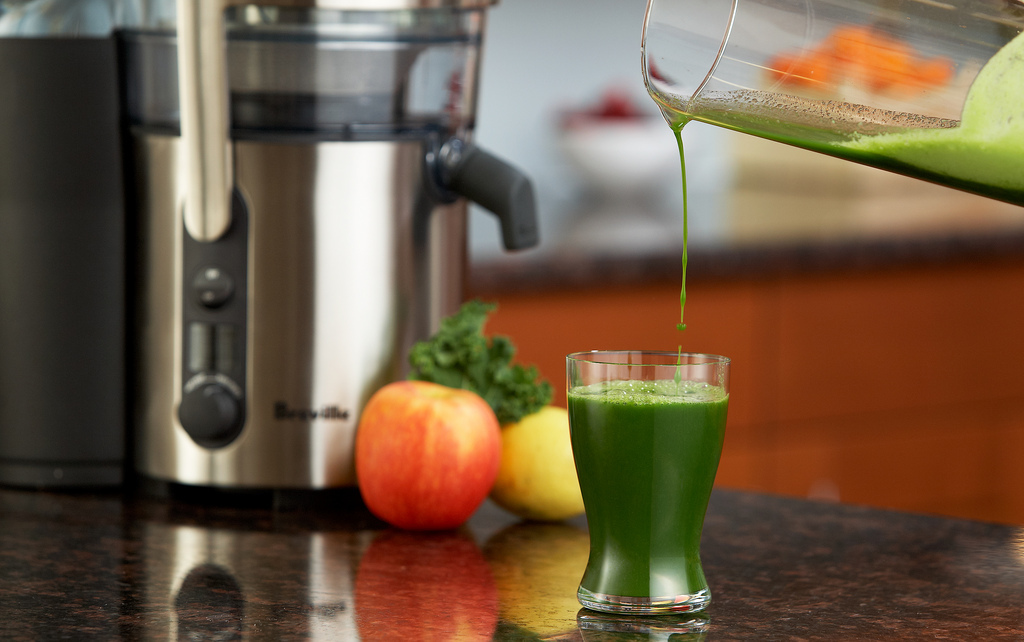Apple: (359, 376, 506, 548)
